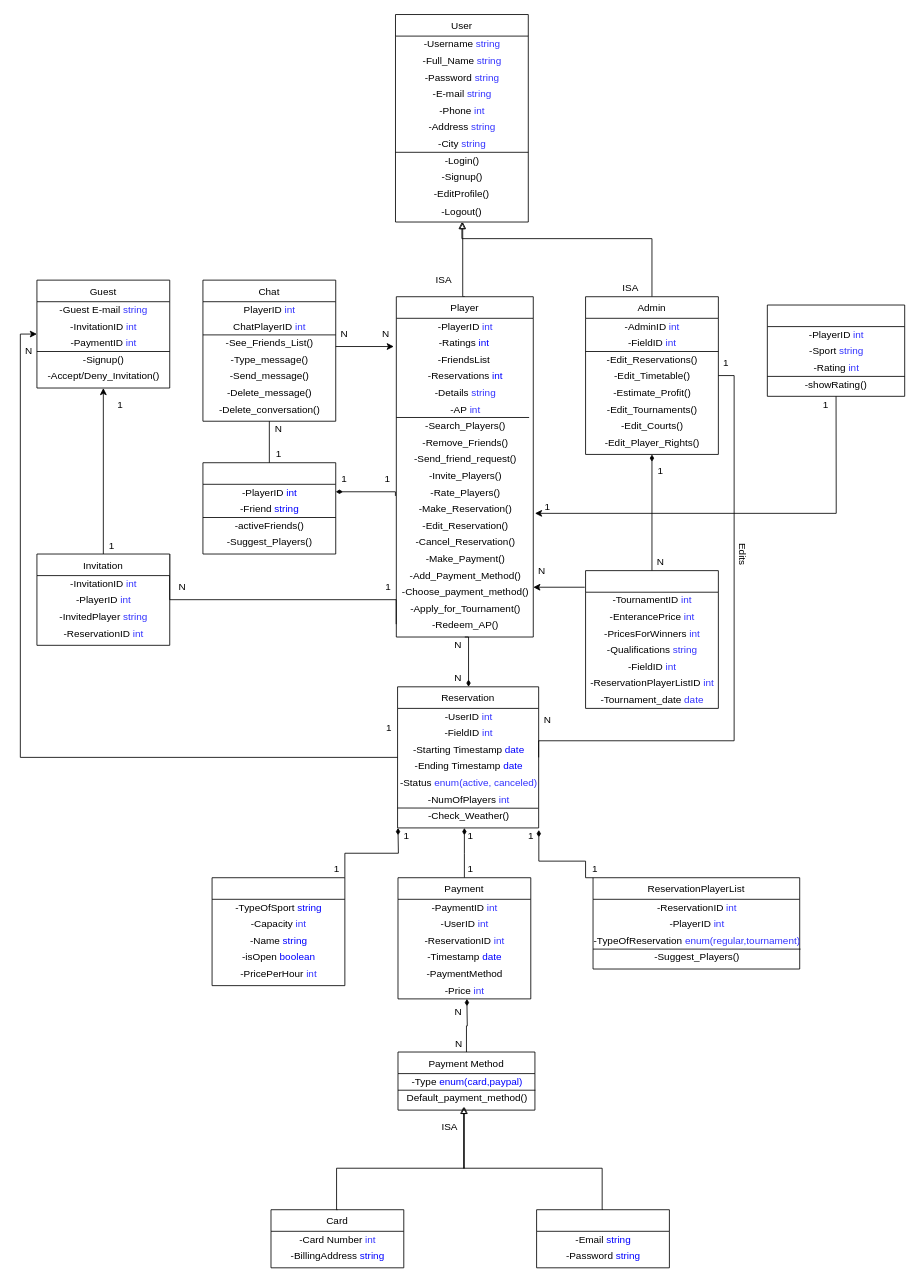
Image size: 920x1282. Some labels were removed from this diagram. The box of each missing label's shape, as (x1, y1, x2, y2) in pixels:
Field: (211, 877, 345, 986)
Friends List: (202, 462, 336, 554)
Paypal: (536, 1209, 669, 1268)
Ratings: (767, 304, 905, 396)
Tournaments: (585, 570, 718, 708)
